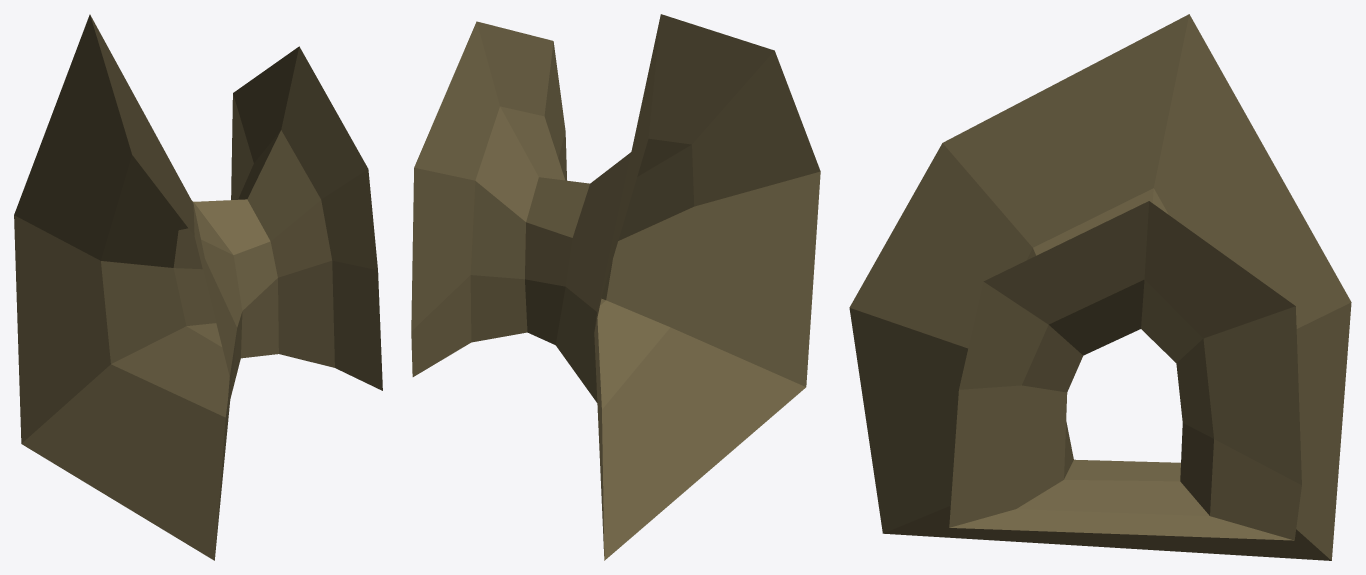
File: DomeExit-adapter-02.fbx
3 renders of one model, left to right at view 1: azimuth 30°, elevation 25°; view 2: azimuth 150°, elevation 25°; view 3: azimuth 270°, elevation 25°, orthographic. The views are drawn at different scales.
Parts seen in each view (by area): view 1: DomeExit-adapter-02; view 2: DomeExit-adapter-02; view 3: DomeExit-adapter-02.
Boxes of the visible parts, x1,y1,x2,y2 form: DomeExit-adapter-02: (14, 14, 382, 560); DomeExit-adapter-02: (411, 14, 820, 560); DomeExit-adapter-02: (849, 14, 1351, 560).
Bounding box in the file's own units: 556 × 1259 × 1039.
